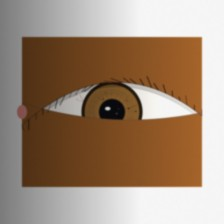pinguecula_lesion: (156, 108, 190, 136)
